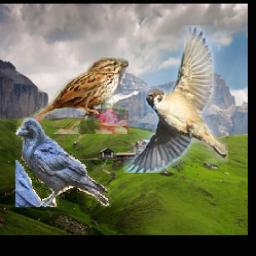Crow: (16, 117, 112, 207)
Sparrow: (123, 26, 228, 174), (13, 56, 129, 135)
